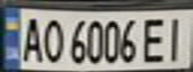0: (84, 16, 106, 65), (103, 16, 124, 65)
6: (118, 16, 142, 64), (66, 16, 87, 65)
A: (18, 12, 45, 63)
E: (139, 13, 172, 64)
I: (160, 12, 193, 63)
O: (39, 13, 66, 64)
